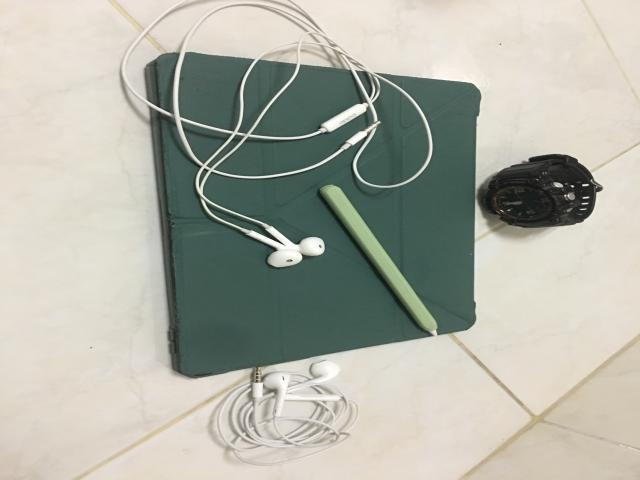Watch: (483, 154, 602, 228)
wire: (120, 0, 433, 267), (215, 360, 358, 465)
